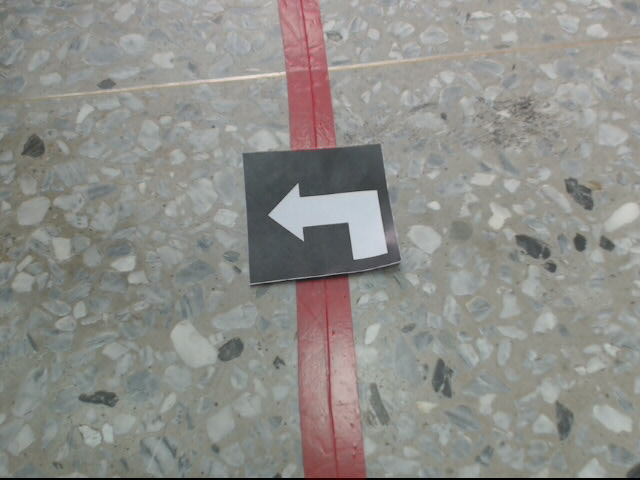left: (242, 146, 405, 286)
